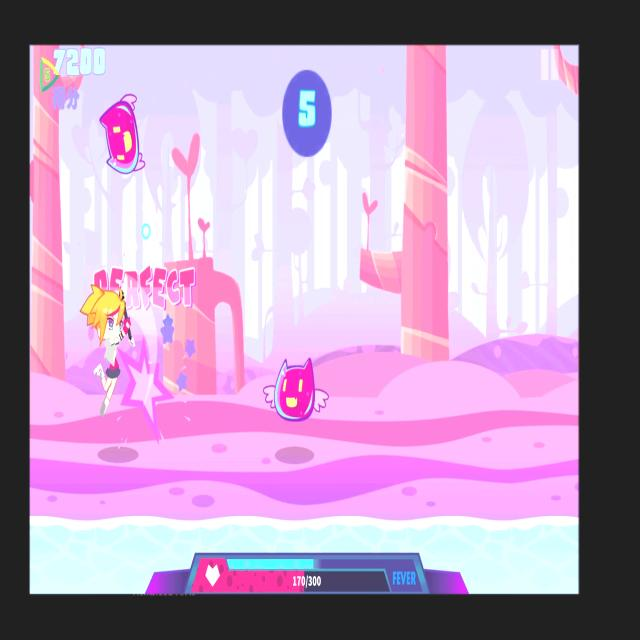Ground Monster - Red Devil: (262, 344, 332, 434), (95, 86, 149, 182)
